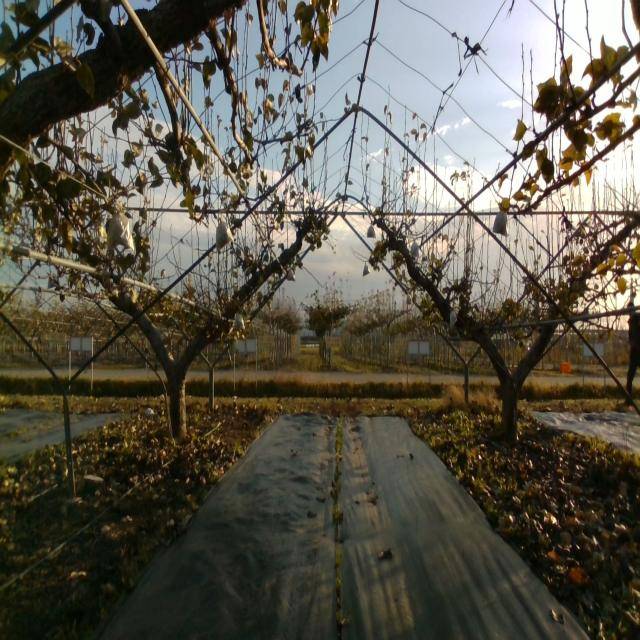pearbags: (105, 200, 134, 256), (214, 217, 234, 255), (492, 206, 508, 238), (234, 313, 245, 332)
